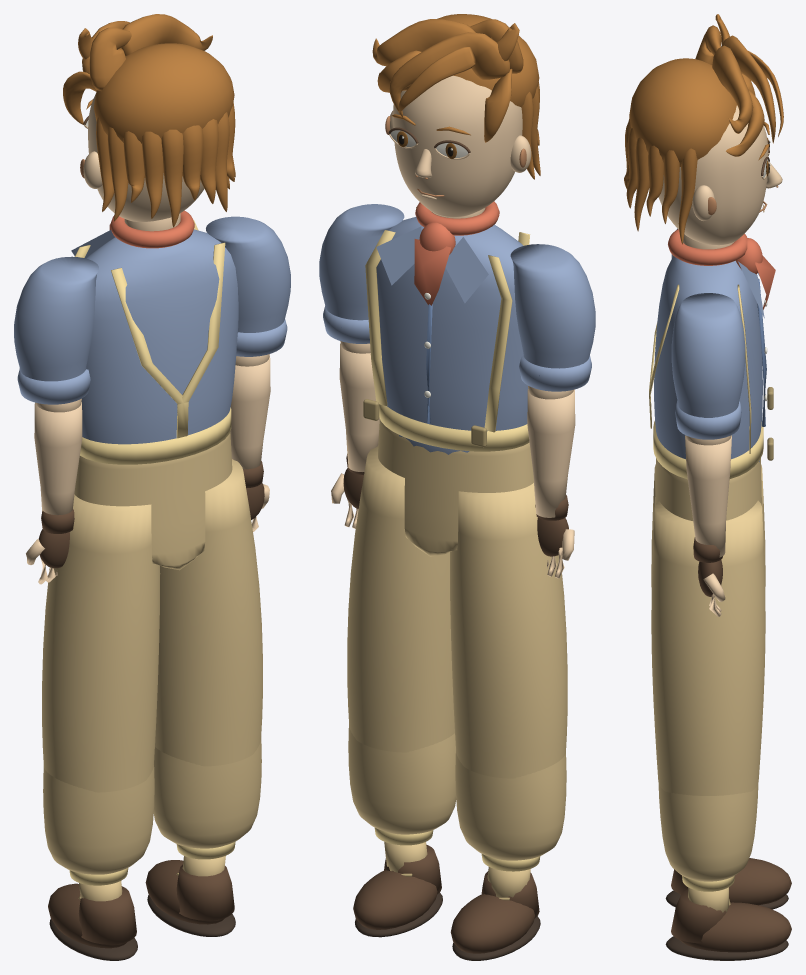
Rendered from before.glb.
3 views of the same model, side by side, from view 1: azimuth 30°, elevation 25°; view 2: azimuth 150°, elevation 25°; view 3: azimuth 270°, elevation 25° (orthographic). The views are drawn at different scales.
Parts seen in each view (by area): view 1: Torso_Geometry, LegL_Geometry, Head_Geometry, LegR_Geometry, Knee_Geometry, Knee.001_Geometry, Root_Geometry, ArmL_Geometry, ArmR_Geometry, Forearm, Forearm.001, Hand_Geometry (+1 smaller); view 2: Torso_Geometry, LegL_Geometry, Head_Geometry, LegR_Geometry, Knee_Geometry, Knee.001_Geometry, Root_Geometry, ArmL_Geometry, ArmR_Geometry, Forearm, Forearm.001, Hand_Geometry (+1 smaller); view 3: LegR_Geometry, Head_Geometry, Knee.001_Geometry, Torso_Geometry, ArmR_Geometry, Root_Geometry, Forearm.001, Knee_Geometry, Hand.001_Geometry, LegL_Geometry.
Part boxes in pixels (x1,y1,x2,y2): Torso_Geometry: (71,210,238,444); LegL_Geometry: (42,494,160,792); Head_Geometry: (63,14,235,227); LegR_Geometry: (155,459,262,766); Knee_Geometry: (43,765,154,960); Knee.001_Geometry: (145,737,261,936); Root_Geometry: (74,407,232,570); ArmL_Geometry: (14,256,98,412); ArmR_Geometry: (206,216,290,366); Forearm: (34,402,82,515); Forearm.001: (230,356,270,469); Hand_Geometry: (26,509,74,584); Torso_Geometry: (363,201,530,447); LegL_Geometry: (450,483,567,778); Head_Geometry: (372,14,540,217); LegR_Geometry: (347,445,454,752); Knee_Geometry: (450,751,566,960); Knee.001_Geometry: (348,724,456,937); Root_Geometry: (378,404,533,556); ArmL_Geometry: (510,244,595,399); ArmR_Geometry: (319,204,404,353); Forearm: (527,389,575,517); Forearm.001: (339,343,379,471); Hand_Geometry: (535,495,574,578); LegR_Geometry: (651,500,765,795); Head_Geometry: (624,14,783,245); Knee.001_Geometry: (658,783,791,960); Torso_Geometry: (649,229,775,460); ArmR_Geometry: (671,293,745,445); Root_Geometry: (653,421,763,520); Forearm.001: (685,435,731,557); Knee_Geometry: (665,858,791,909); Hand.001_Geometry: (693,537,725,616); LegL_Geometry: (651,464,765,586).
Size of the model in its own units: 0.5687 by 1.87 by 0.3219.
